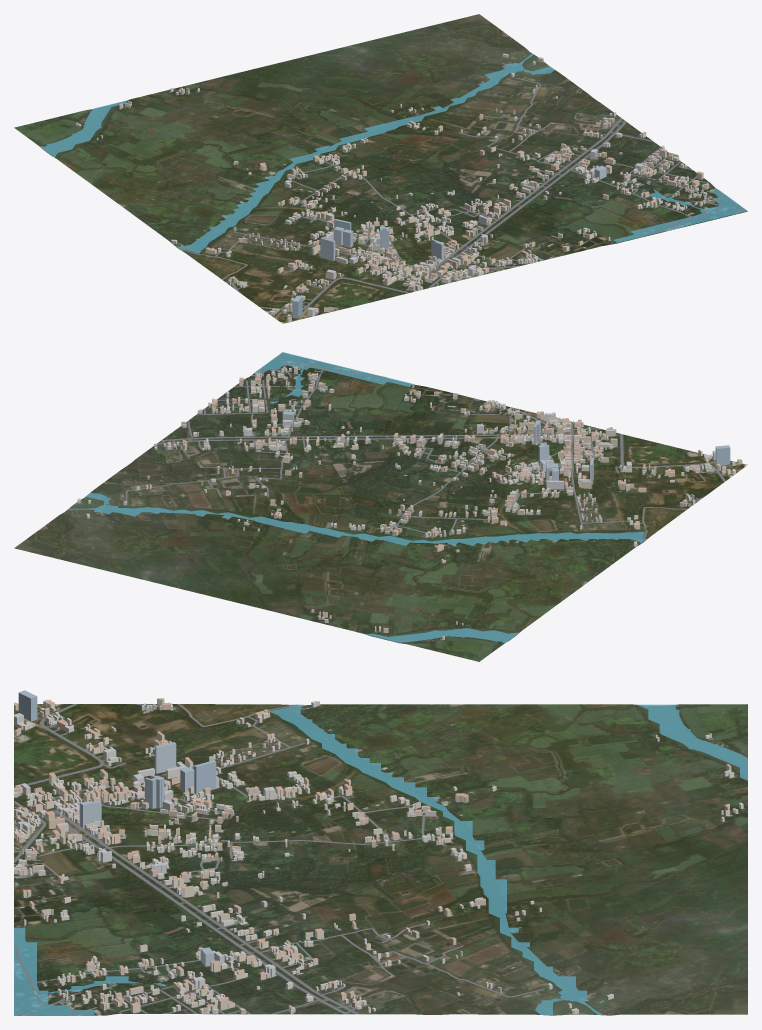
3 views of the same model, one above another, from view 1: azimuth 30°, elevation 25°; view 2: azimuth 150°, elevation 25°; view 3: azimuth 270°, elevation 25° (orthographic). The views are drawn at different scales.
Parts seen in each view (by area): view 1: TERRAIN, BLDG_TUBE_HOUSE, BLDG_SHOPHOUSE, WATER, ROAD_METRO, BLDG_MODERN_TOWER, BLDG_APARTMENT; view 2: TERRAIN, BLDG_TUBE_HOUSE, WATER, BLDG_SHOPHOUSE, ROAD_METRO, BLDG_MODERN_TOWER, BLDG_APARTMENT; view 3: TERRAIN, BLDG_TUBE_HOUSE, WATER, BLDG_SHOPHOUSE, ROAD_METRO, BLDG_MODERN_TOWER, BLDG_APARTMENT.
Boxes of the visible parts, x1,y1,x2,y2 form: TERRAIN: (14,14,747,323); BLDG_TUBE_HOUSE: (76,53,709,318); BLDG_SHOPHOUSE: (119,88,709,322); WATER: (34,53,747,253); ROAD_METRO: (179,77,745,310); BLDG_MODERN_TOWER: (292,166,606,318); BLDG_APARTMENT: (307,149,643,316); TERRAIN: (14,353,747,661); BLDG_TUBE_HOUSE: (77,367,735,639); WATER: (67,352,646,647); BLDG_SHOPHOUSE: (167,372,742,632); ROAD_METRO: (125,353,725,541); BLDG_MODERN_TOWER: (282,411,730,487); BLDG_APARTMENT: (244,403,715,500); TERRAIN: (14,704,747,1015); BLDG_TUBE_HOUSE: (14,699,743,1014); WATER: (14,704,747,1014); BLDG_SHOPHOUSE: (14,698,731,1014); ROAD_METRO: (14,704,544,1014); BLDG_MODERN_TOWER: (18,690,216,966); BLDG_APARTMENT: (14,713,275,988).
Size of the model in its own units: 2000 by 88.6 by 2000.
Materials: 7 (1 with a texture image).
